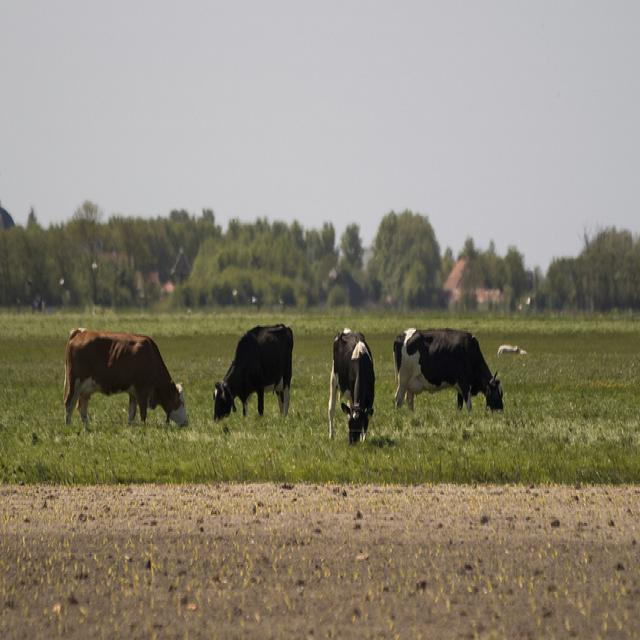cow: (61, 327, 187, 426), (390, 327, 505, 411), (212, 325, 291, 418), (327, 330, 373, 442), (495, 342, 526, 355)
